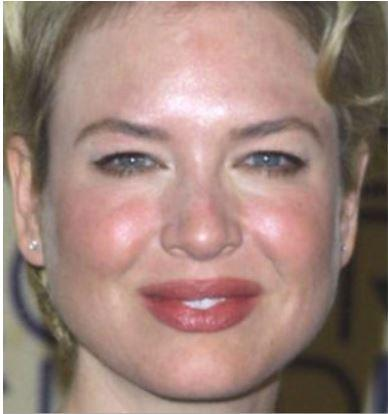Drunk: (54, 6, 341, 388)
